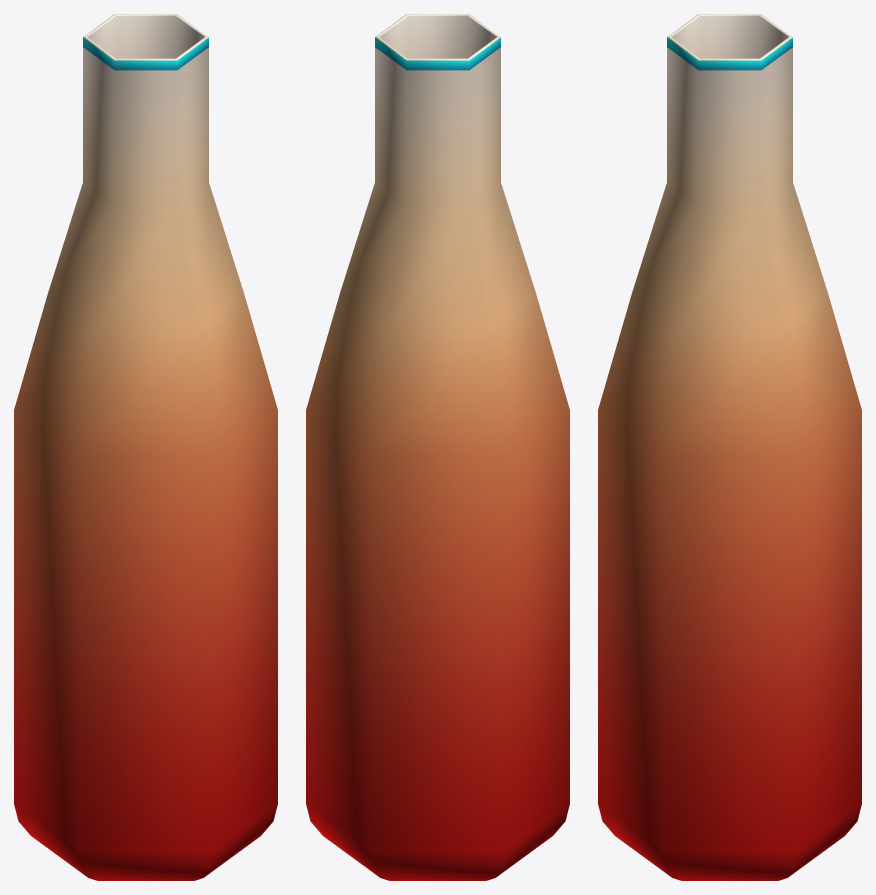
Rendered from Bottle.fbx.
3 renders of one model, left to right at view 1: azimuth 30°, elevation 25°; view 2: azimuth 150°, elevation 25°; view 3: azimuth 270°, elevation 25°, orthographic.
Parts seen in each view (by area): view 1: Bottle; view 2: Bottle; view 3: Bottle.
Boxes of the visible parts, <box> form: Bottle: <box>14,14,277,880</box>; Bottle: <box>306,14,569,880</box>; Bottle: <box>598,14,861,880</box>.
Bounding box in the file's own units: 18.53 × 72.66 × 21.39.
